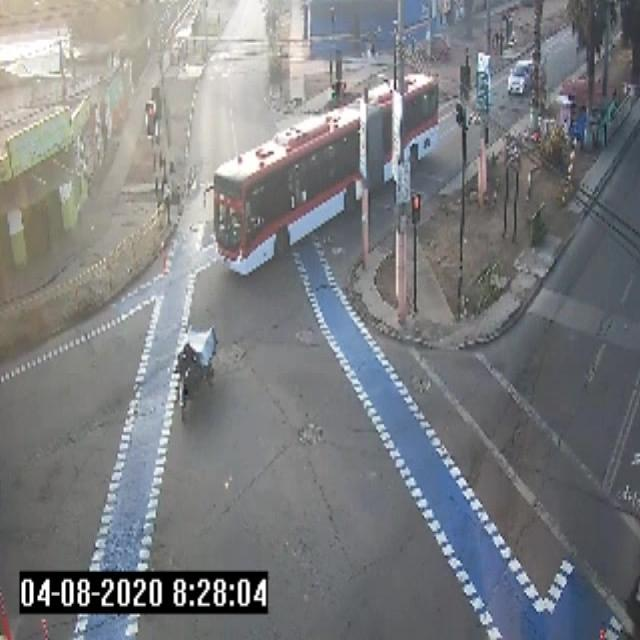AB: (207, 71, 442, 280)
